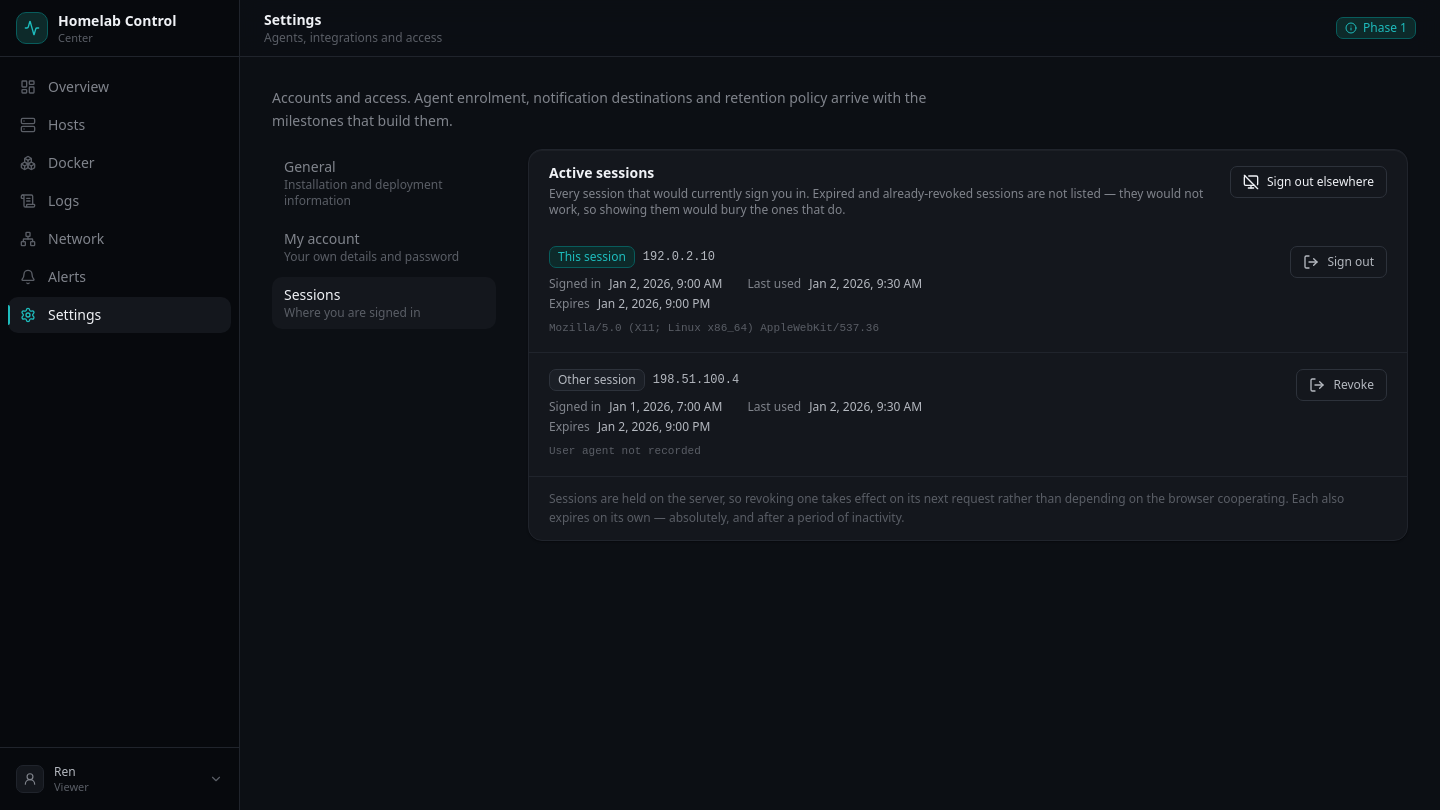
revoking another session › confirms first, naming when that session signed in
Expected: the heading "Active sessions" is shown, [549, 162, 654, 182]
Click the button with aria-label "Revoke the session signed in". click: [1342, 385]
box: [1296, 369, 1387, 401]
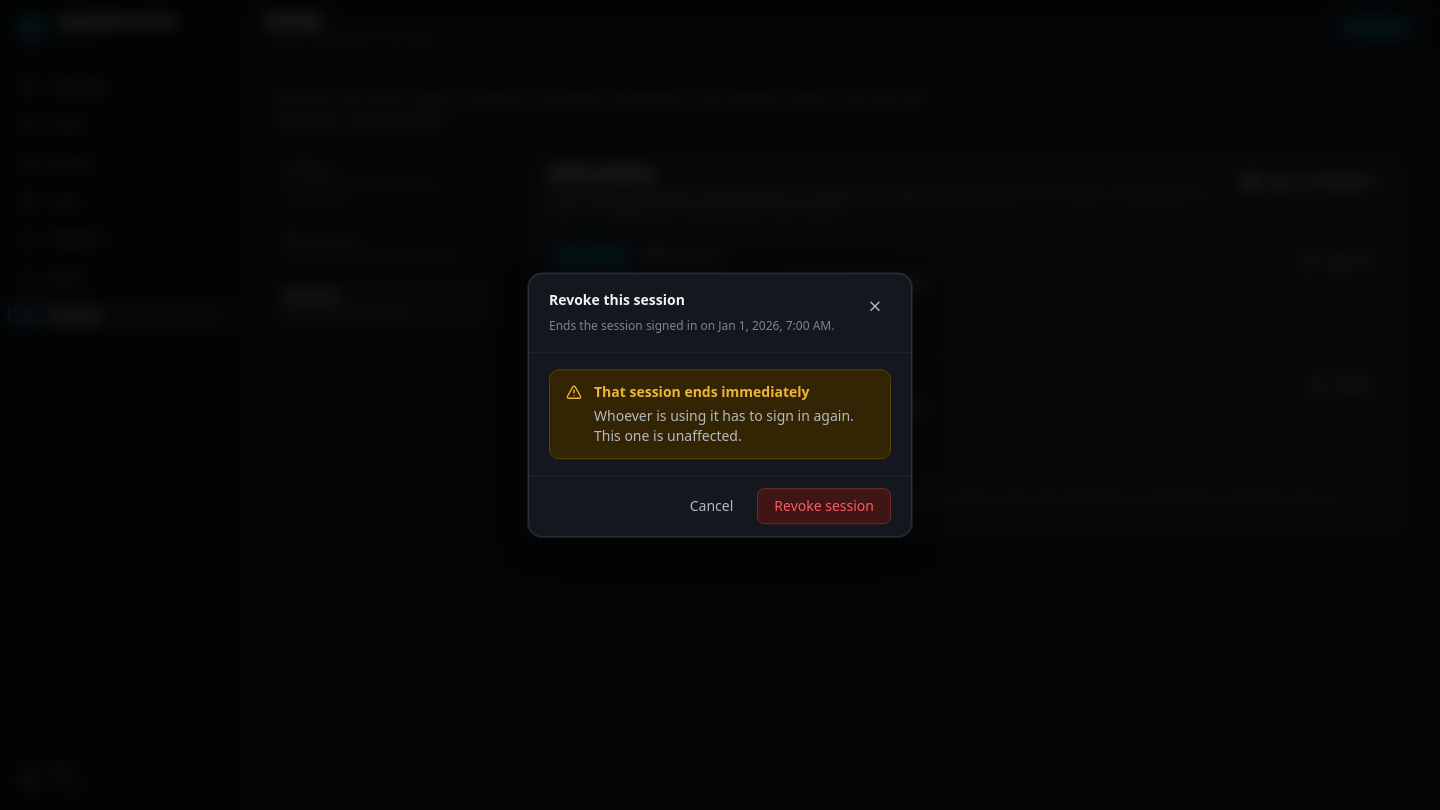
Expected: the text "That session ends immediately" is shown, [594, 382, 810, 401]
Expected: the text "This one is unaffected" is shown, [594, 406, 854, 445]
